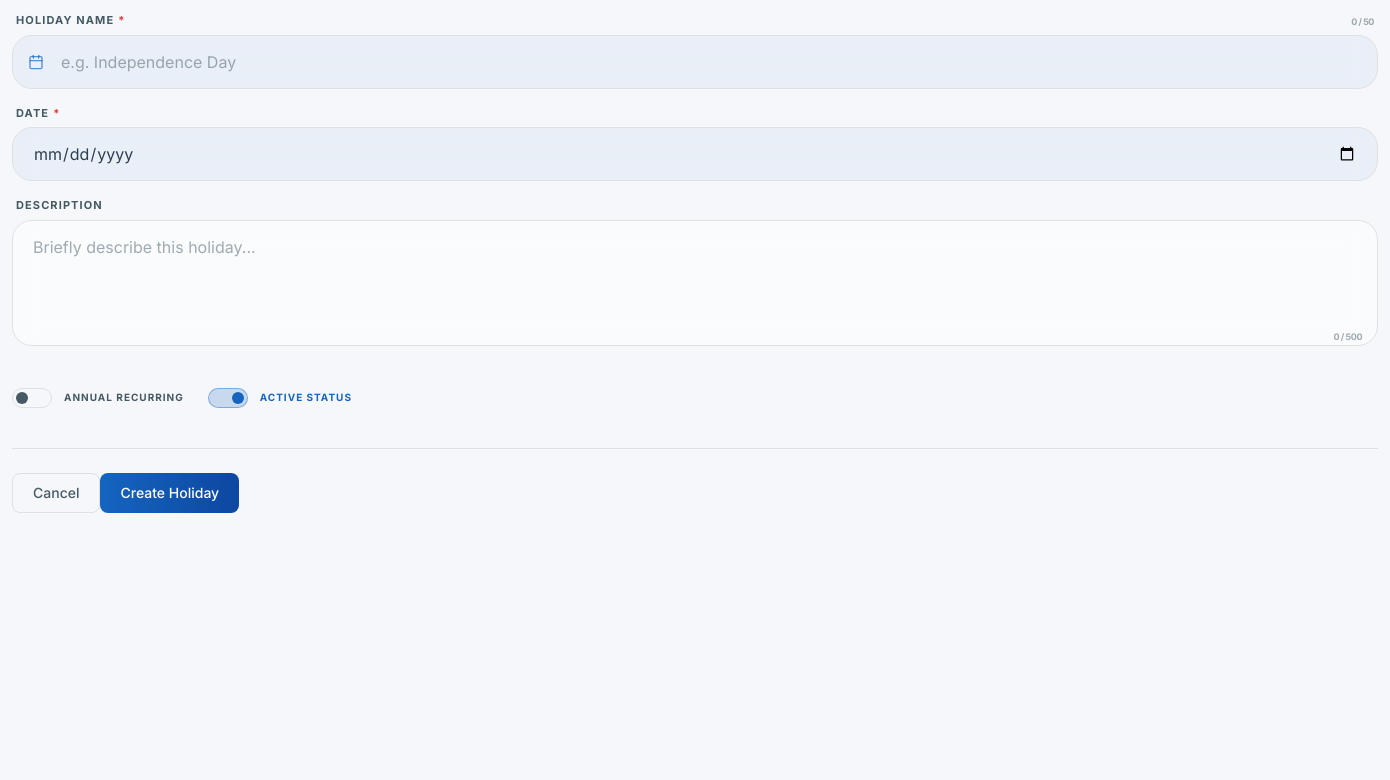
Test: HolidayForm Component › shows validation error when name is empty
Click the button "Create Holiday" at (170, 492), box [100,472,239,512]
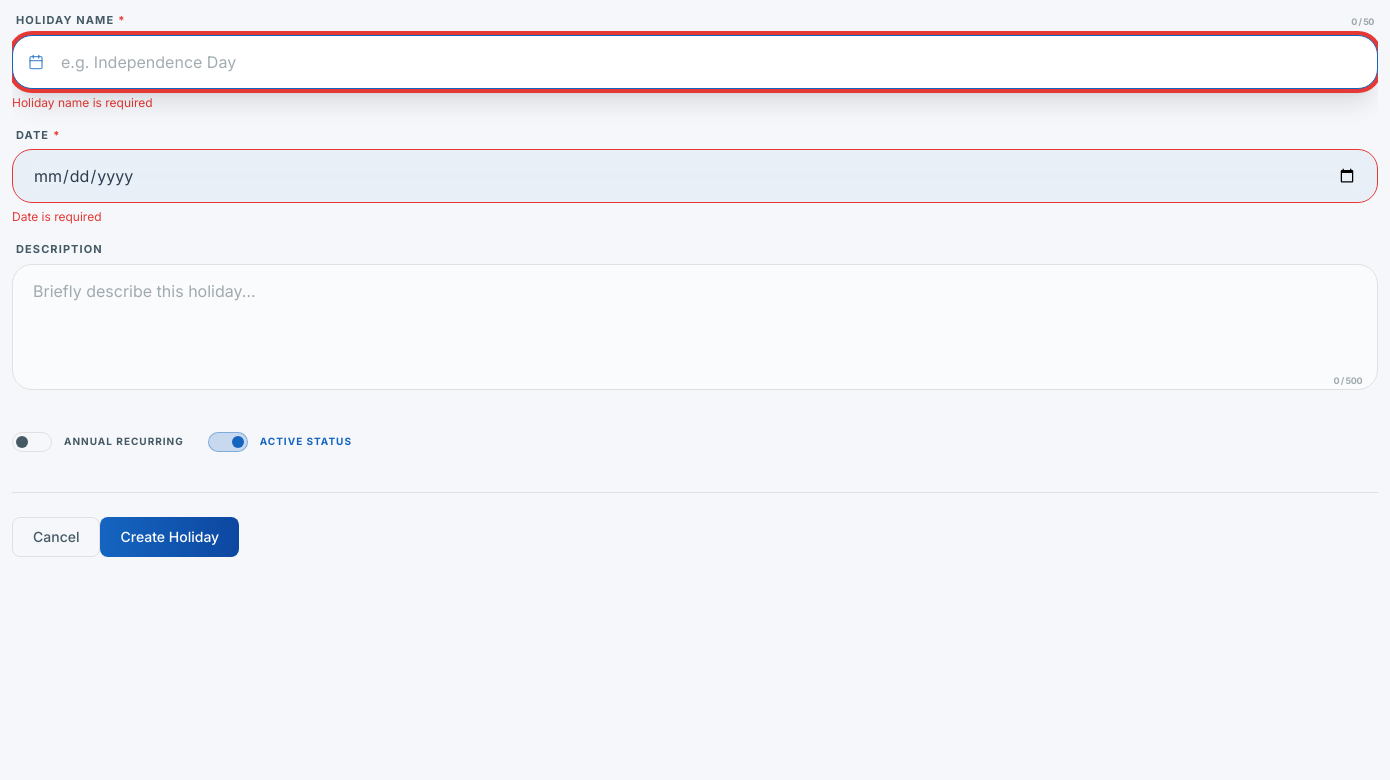
Result: the text "Holiday name is required" is shown at [12,94,153,110]
Result: the text "Date is required" is shown at [12,209,102,224]
